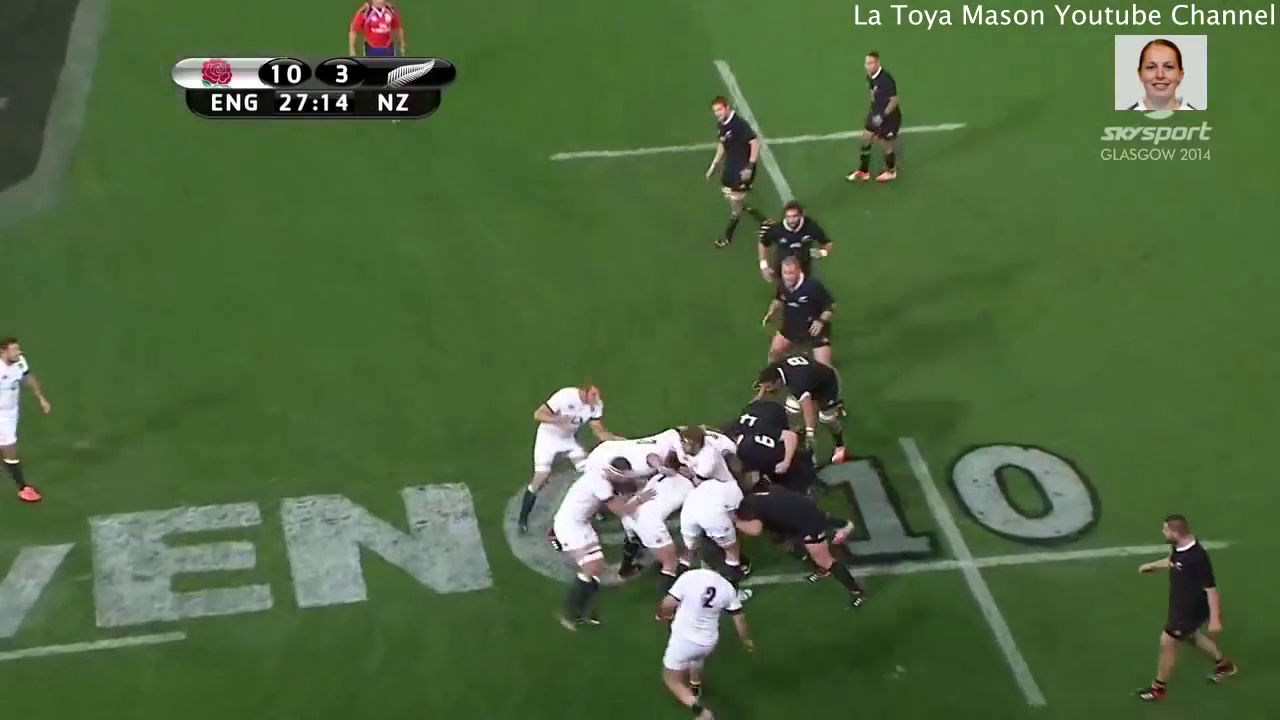10_metre: (647, 436, 1234, 720), (548, 50, 975, 244)
maul: (446, 410, 924, 620)
player: (1136, 514, 1239, 708), (514, 374, 604, 541), (660, 540, 743, 720), (1, 324, 66, 514), (749, 250, 846, 362), (693, 98, 763, 232), (760, 351, 855, 449), (846, 40, 903, 196), (746, 204, 822, 252)
